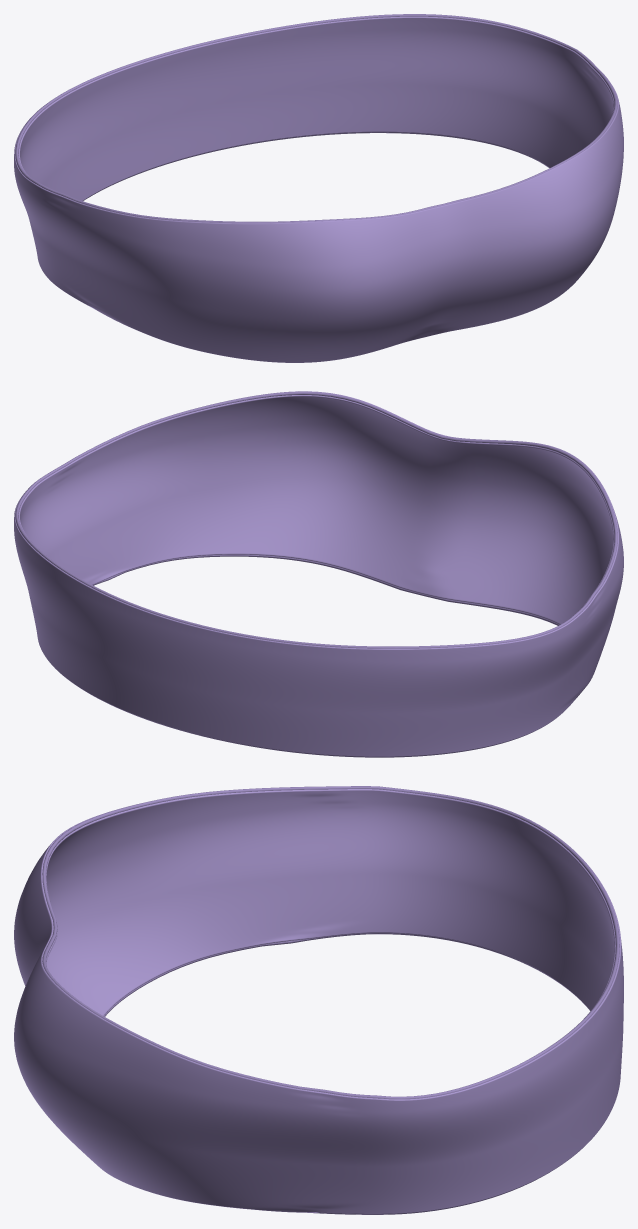
File: Feminine-bandeau-top.glb
3 views of the same model, one above another, from view 1: azimuth 30°, elevation 25°; view 2: azimuth 150°, elevation 25°; view 3: azimuth 270°, elevation 25° (orthographic). The views are drawn at different scales.
Parts seen in each view (by area): view 1: Clothing / Bandeau, Bandeau / bound edge.001 export, Bandeau / bound edge export; view 2: Clothing / Bandeau, Bandeau / bound edge.001 export, Bandeau / bound edge export; view 3: Clothing / Bandeau, Bandeau / bound edge.001 export, Bandeau / bound edge export.
Part boxes in pixels (bbox=[...]): Clothing / Bandeau: bbox=[14, 16, 623, 362]; Bandeau / bound edge.001 export: bbox=[15, 14, 617, 223]; Bandeau / bound edge export: bbox=[83, 132, 548, 200]; Clothing / Bandeau: bbox=[14, 391, 623, 756]; Bandeau / bound edge.001 export: bbox=[15, 391, 617, 648]; Bandeau / bound edge export: bbox=[93, 554, 559, 757]; Clothing / Bandeau: bbox=[14, 789, 623, 1214]; Bandeau / bound edge.001 export: bbox=[42, 786, 619, 1099]; Bandeau / bound edge export: bbox=[104, 933, 571, 1214].
Bounding box in the file's own units: 0.6458 × 0.1812 × 0.5334.
